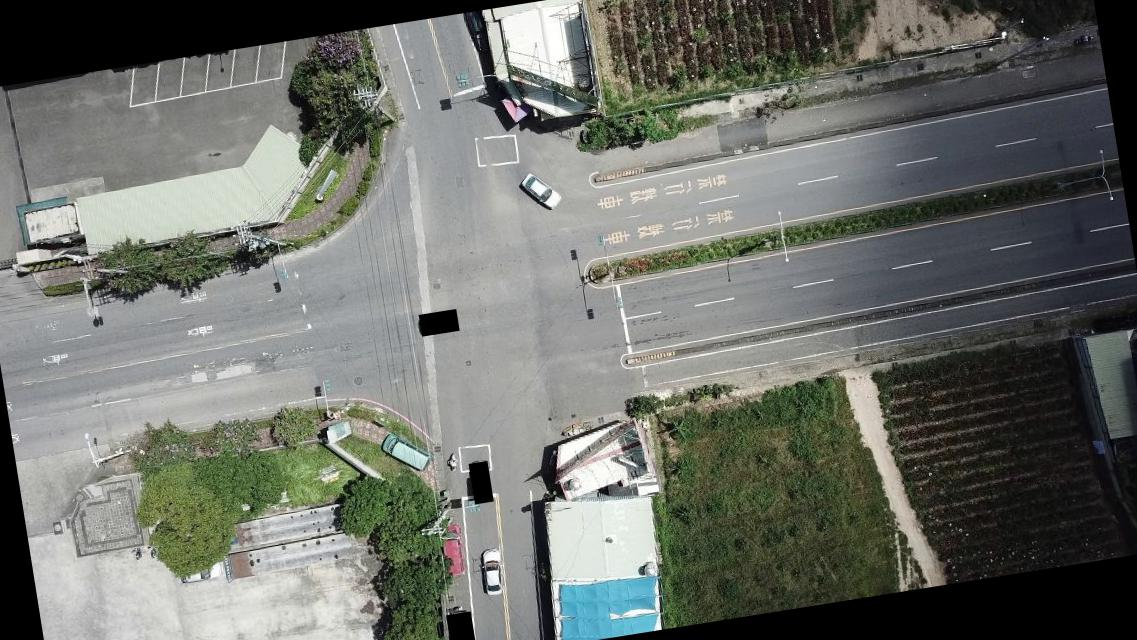vehicle: (381, 430, 433, 478), (518, 166, 564, 214), (437, 520, 470, 578), (476, 544, 506, 596), (172, 554, 223, 584), (462, 9, 493, 58)
